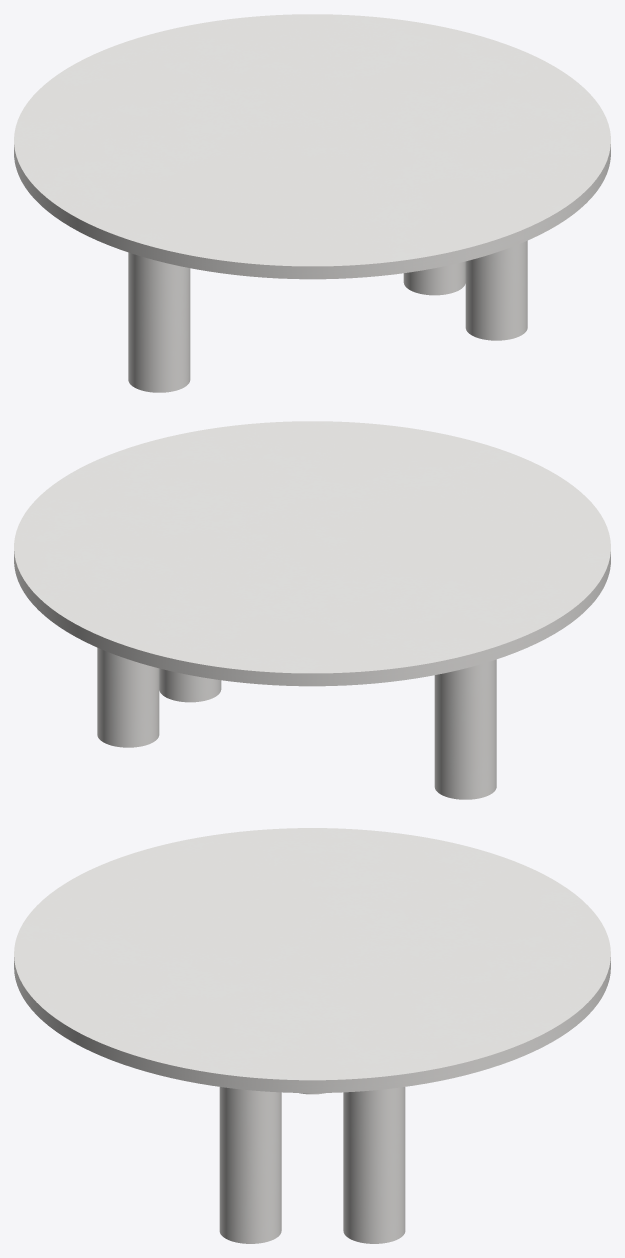
Rendered from purewhite_round_standard_cylinder.glb.
3 renders of one model, top to bottom at view 1: azimuth 30°, elevation 25°; view 2: azimuth 150°, elevation 25°; view 3: azimuth 270°, elevation 25°, orthographic.
Visible parts, largest first — view 1: standard_round, cylinder; view 2: standard_round, cylinder; view 3: standard_round, cylinder.
Part boxes in pixels (x1,y1,x2,y2): standard_round: (14, 14, 610, 279); cylinder: (128, 240, 527, 392); standard_round: (14, 421, 610, 686); cylinder: (97, 647, 496, 799); standard_round: (14, 828, 610, 1092); cylinder: (219, 1087, 405, 1243).
Bounding box in the file's own units: 6.75 × 2.52 × 6.75.
1 material, 1 textured.
